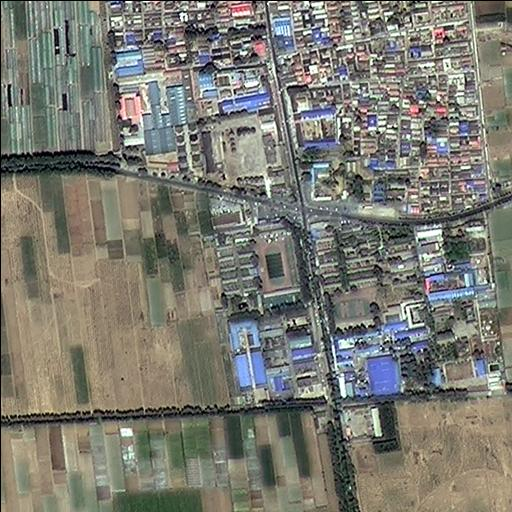school: (213, 226, 307, 310), (303, 218, 377, 324)
